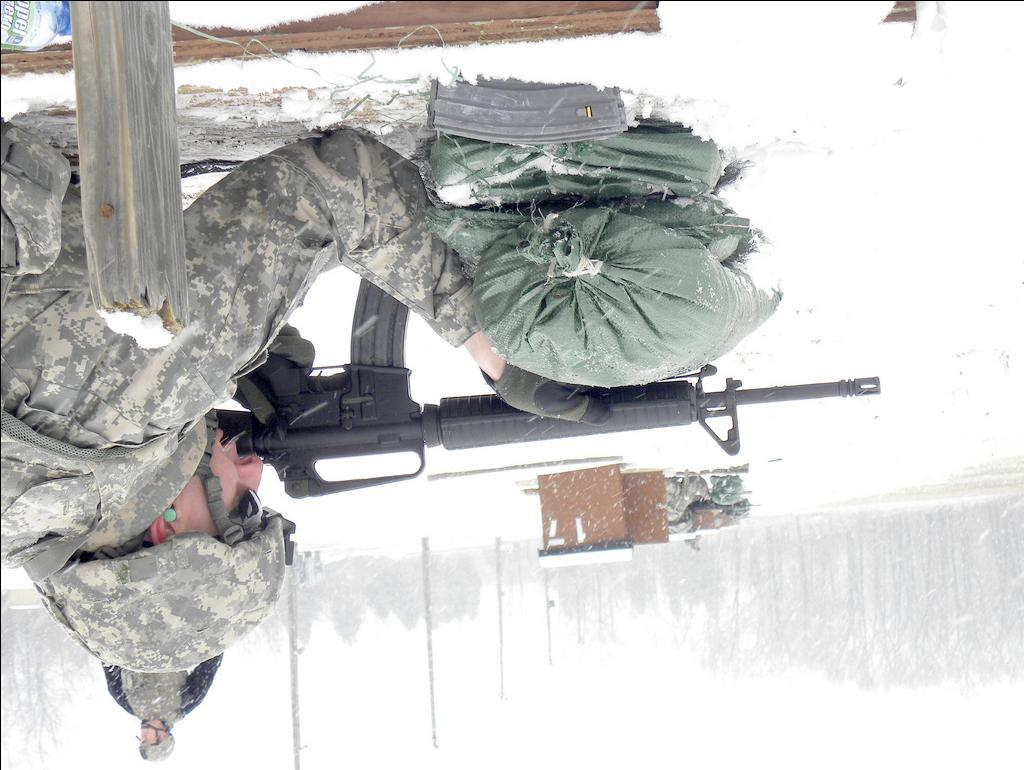gun: (244, 274, 882, 496)
